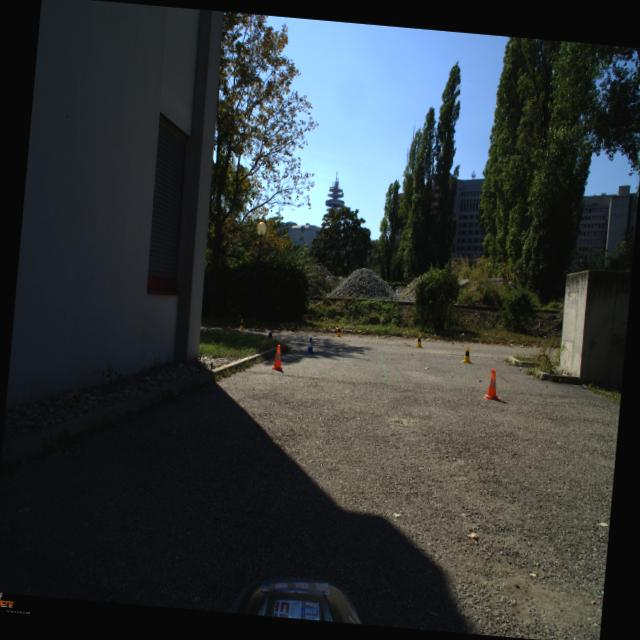blue_cone: (304, 336, 316, 354), (264, 331, 272, 338)
orange_cone: (482, 368, 502, 400), (270, 344, 284, 371)
yellow_cone: (460, 345, 472, 363), (414, 332, 423, 348), (334, 324, 342, 336), (238, 318, 245, 330)
